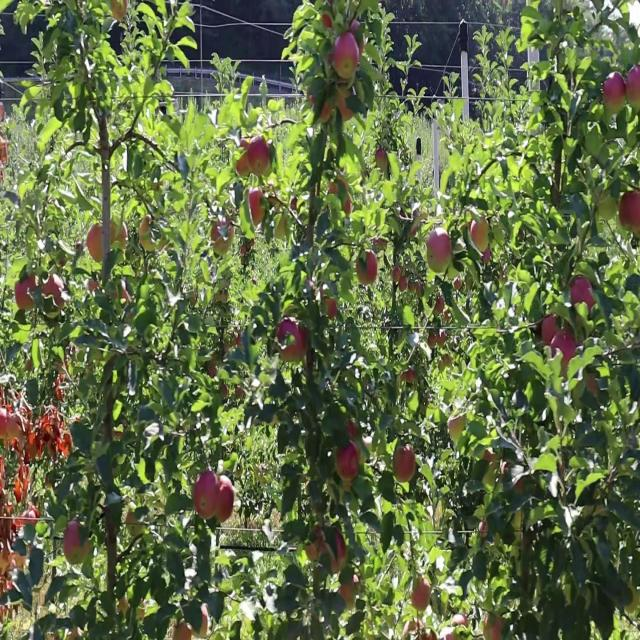apple: (276, 319, 308, 363), (332, 35, 363, 80), (308, 277, 339, 320), (196, 469, 216, 523), (308, 85, 334, 126), (248, 135, 272, 178), (324, 533, 348, 576), (64, 519, 88, 562), (428, 227, 453, 268), (216, 476, 236, 524), (572, 277, 596, 315), (328, 177, 352, 215), (604, 71, 626, 112), (392, 447, 416, 484), (336, 447, 360, 484), (212, 220, 235, 256), (316, 284, 339, 320), (620, 191, 640, 231), (356, 255, 380, 288), (540, 312, 561, 348), (556, 334, 578, 368), (412, 575, 432, 612), (336, 85, 356, 121), (248, 191, 267, 228), (16, 504, 40, 533), (348, 21, 366, 59), (88, 227, 106, 263), (308, 526, 326, 562), (236, 142, 252, 180), (340, 575, 360, 604), (396, 270, 419, 295), (484, 611, 504, 639), (472, 220, 489, 251), (0, 405, 14, 439), (196, 604, 209, 639), (28, 433, 43, 462), (56, 433, 72, 460), (24, 277, 38, 306), (140, 220, 153, 251), (320, 7, 336, 32), (629, 71, 640, 107), (392, 270, 410, 292), (112, 0, 129, 23), (116, 284, 132, 308), (448, 419, 467, 439), (240, 234, 255, 258), (224, 383, 245, 400), (56, 277, 67, 309), (20, 405, 33, 432), (436, 298, 449, 324), (52, 405, 64, 432), (40, 419, 53, 443), (56, 376, 67, 404), (172, 625, 193, 639), (112, 227, 128, 244), (44, 277, 55, 299), (348, 419, 359, 441), (376, 149, 388, 169), (400, 369, 416, 384), (228, 334, 243, 350), (276, 220, 288, 240), (588, 376, 599, 396), (480, 248, 492, 265), (484, 447, 496, 464), (232, 334, 244, 350), (328, 42, 335, 69), (480, 519, 489, 539), (516, 476, 524, 494), (428, 334, 437, 348), (440, 334, 448, 348), (128, 511, 135, 526), (88, 284, 98, 293)
